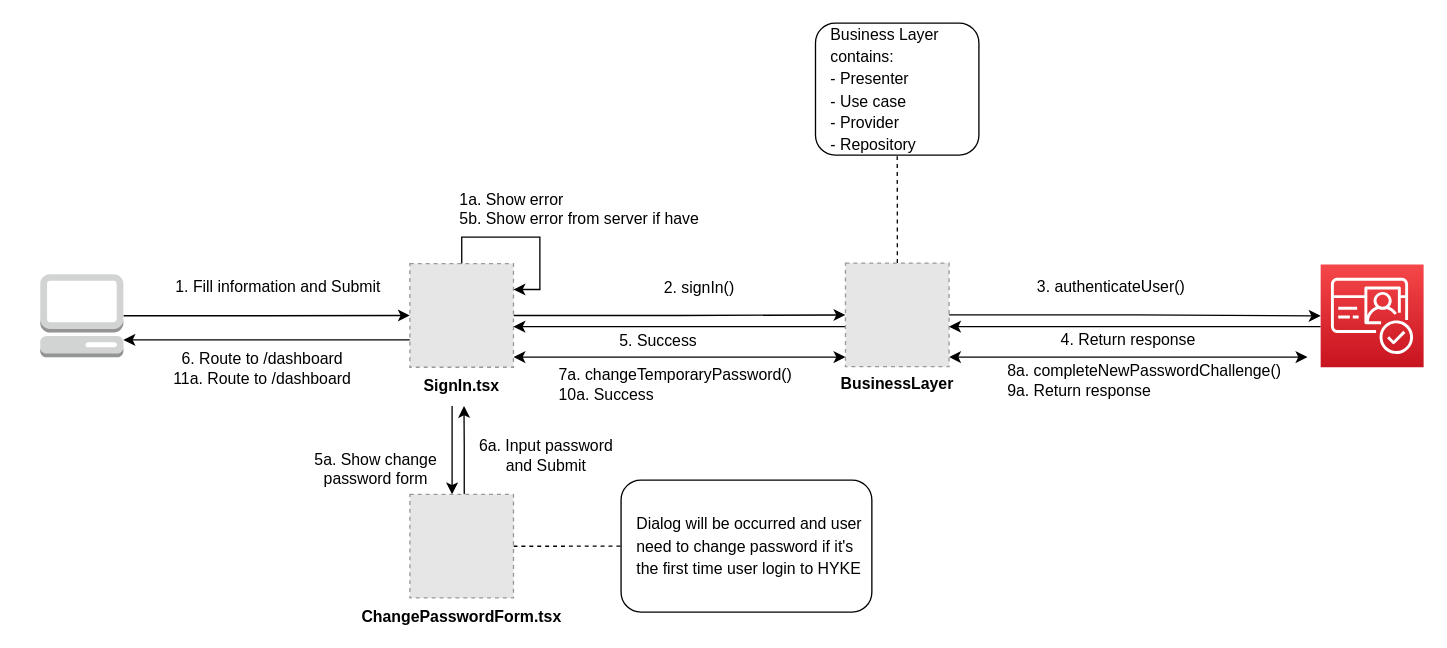
Image size: 1447x648. Some labels were removed from this diagram. Grey dashed boxes stand in for pictures. Each missing label, with the box of its shape:
AWS Cognito: (1319, 263, 1424, 367)
HYKE Frontend: (39, 273, 123, 357)
